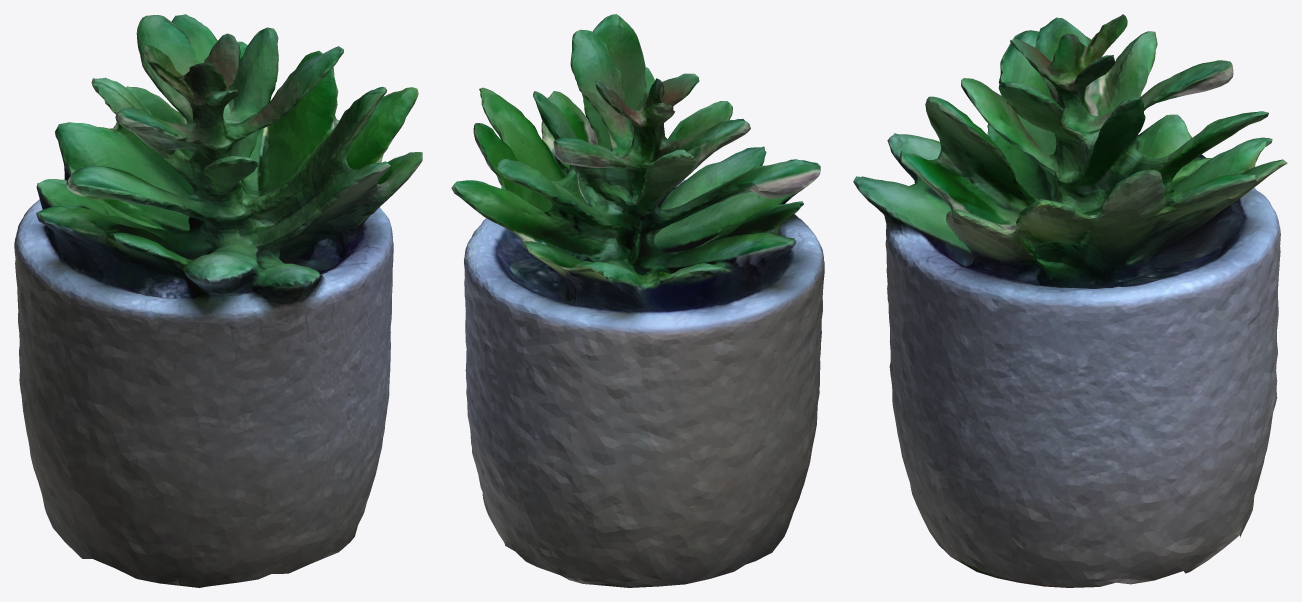
Rendered from Little Succulent Plant.glb.
3 renders of one model, left to right at view 1: azimuth 30°, elevation 25°; view 2: azimuth 150°, elevation 25°; view 3: azimuth 270°, elevation 25°, orthographic. The views are drawn at different scales.
Bounding box in the file's own units: 0.1051 × 0.1339 × 0.107.
Materials: 1 (1 with a texture image).
